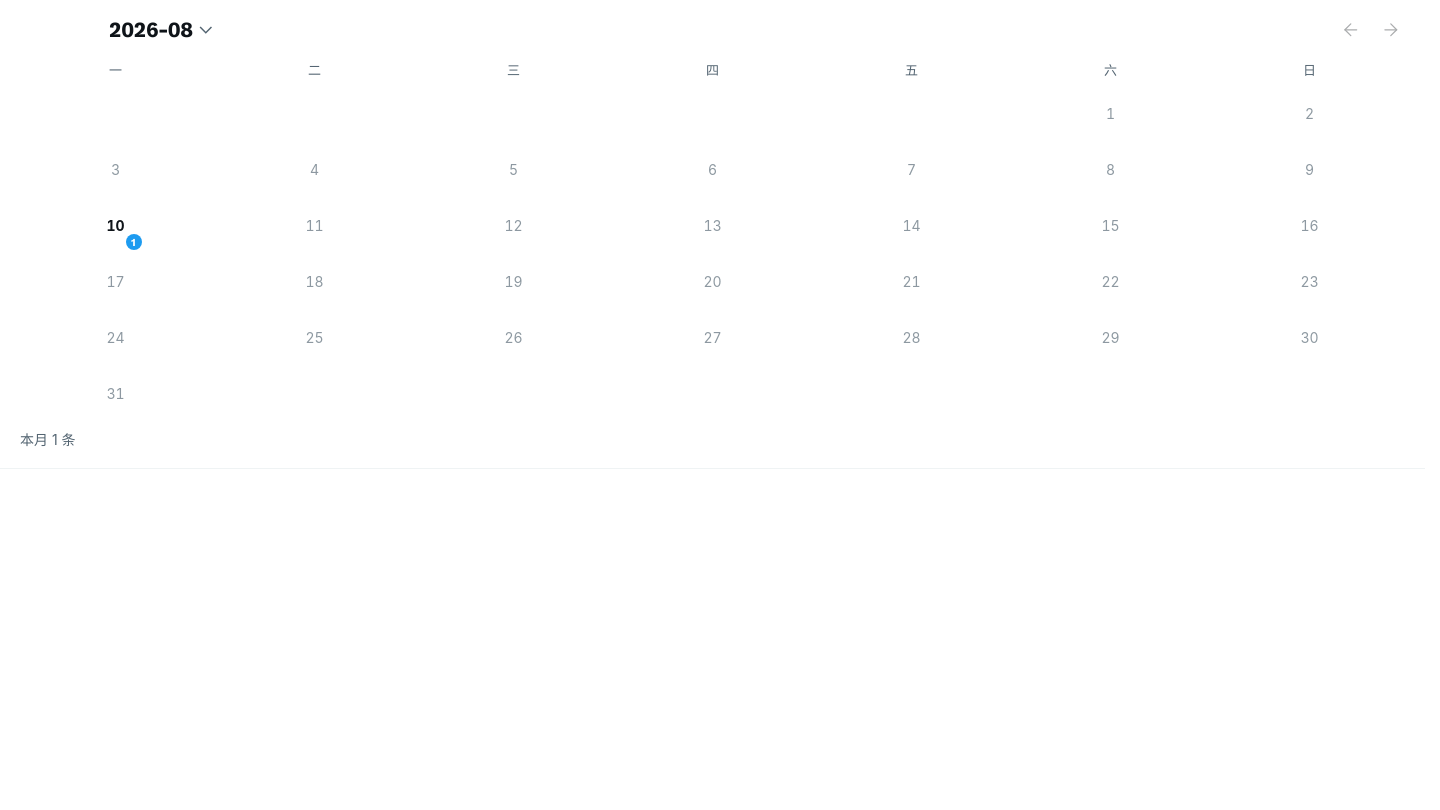
Test: uses numeric archive dates in zh-CN
Click the button "2026-08".
click(162, 30)  # box [101,8,222,52]
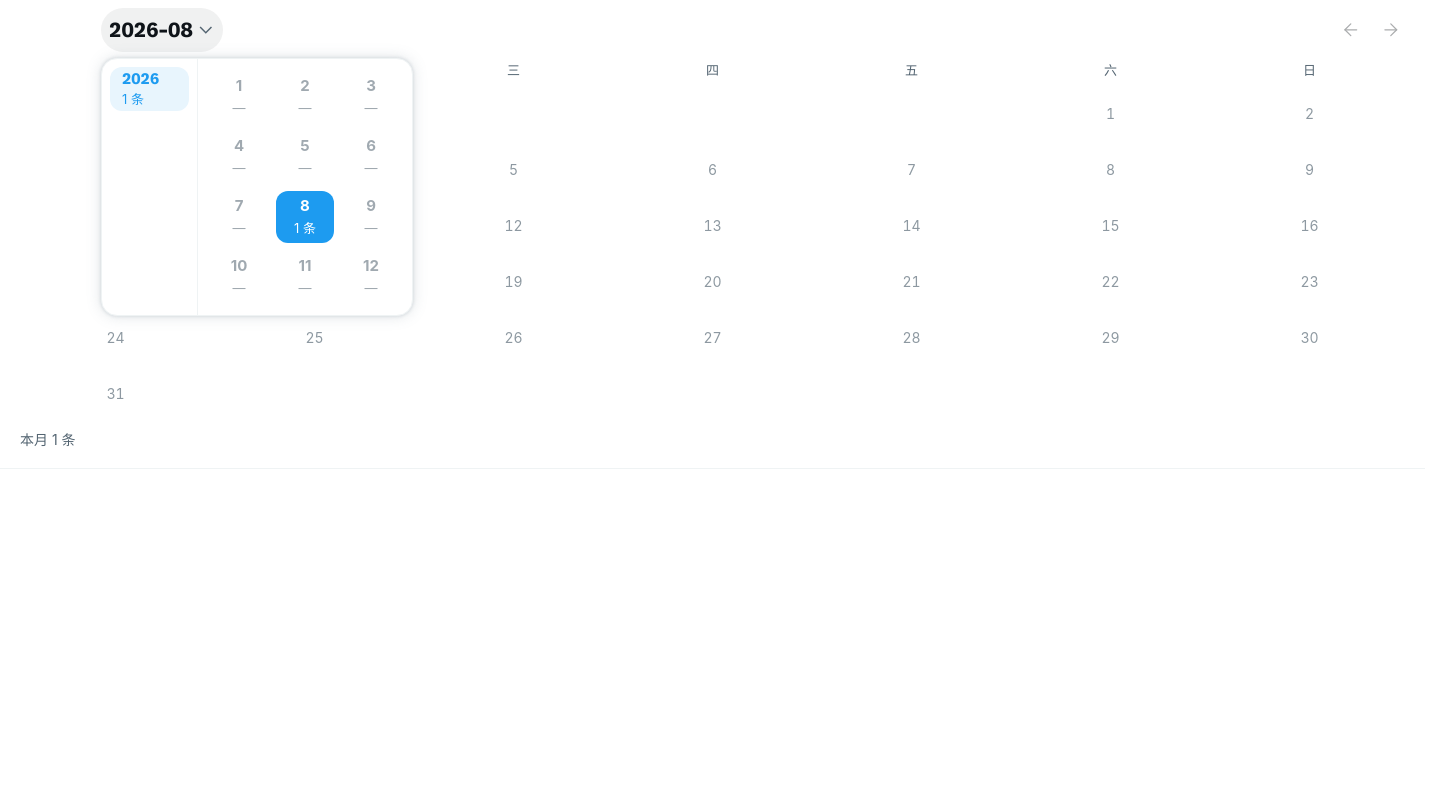
expect the link "8 1 条" is shown: met, box [276,191,334,243]
expect the 2nd text "1 条" is shown: met, box [294,218,316,238]
expect the 1st text "1 条" is shown: met, box [122,89,144,109]
